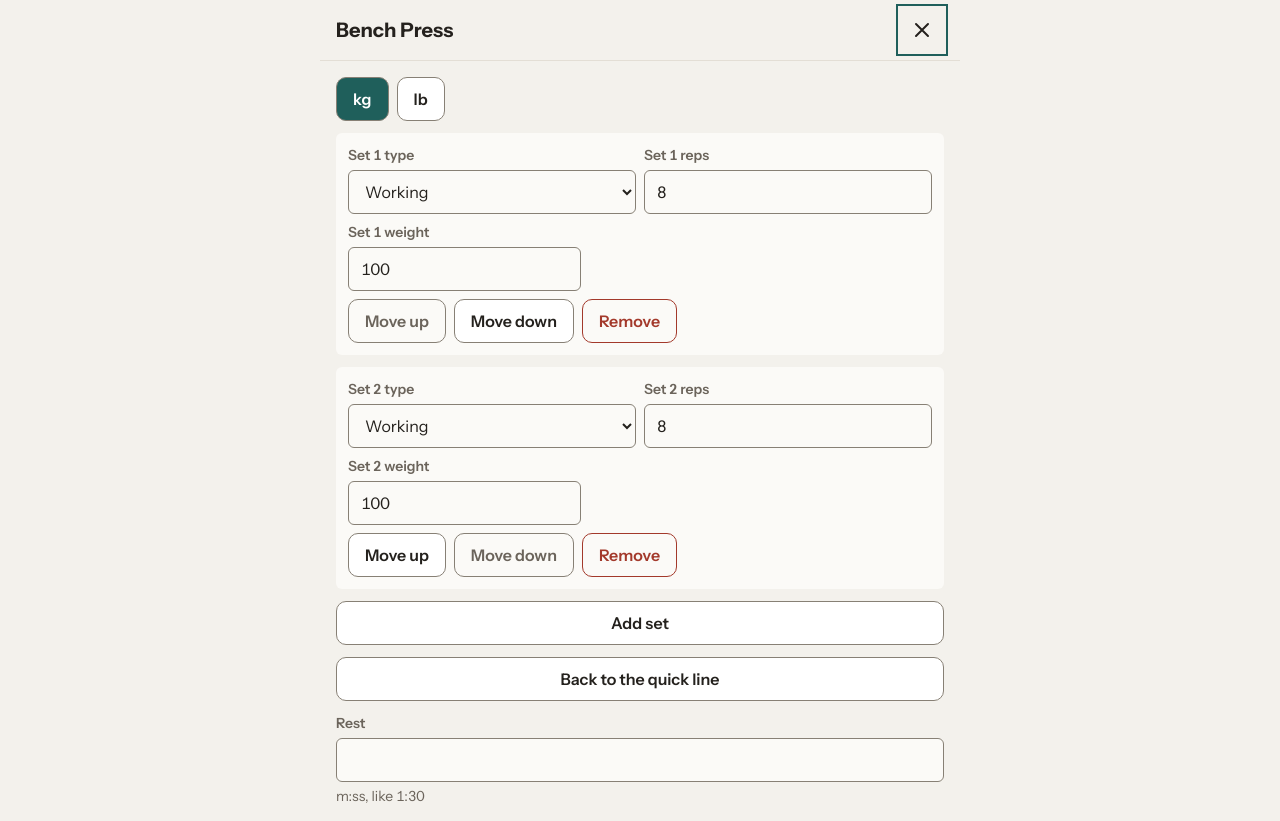
10.2 AC14 — Back to the quick line only when lossless › editing a row so the rows differ withdraws the button; making them equal again offers it
Expected: the button "Back to the quick line" is shown, [336, 657, 944, 701]
In the field labelled "Set 2 weight": (464, 503) [348, 481, 581, 525], type "5"
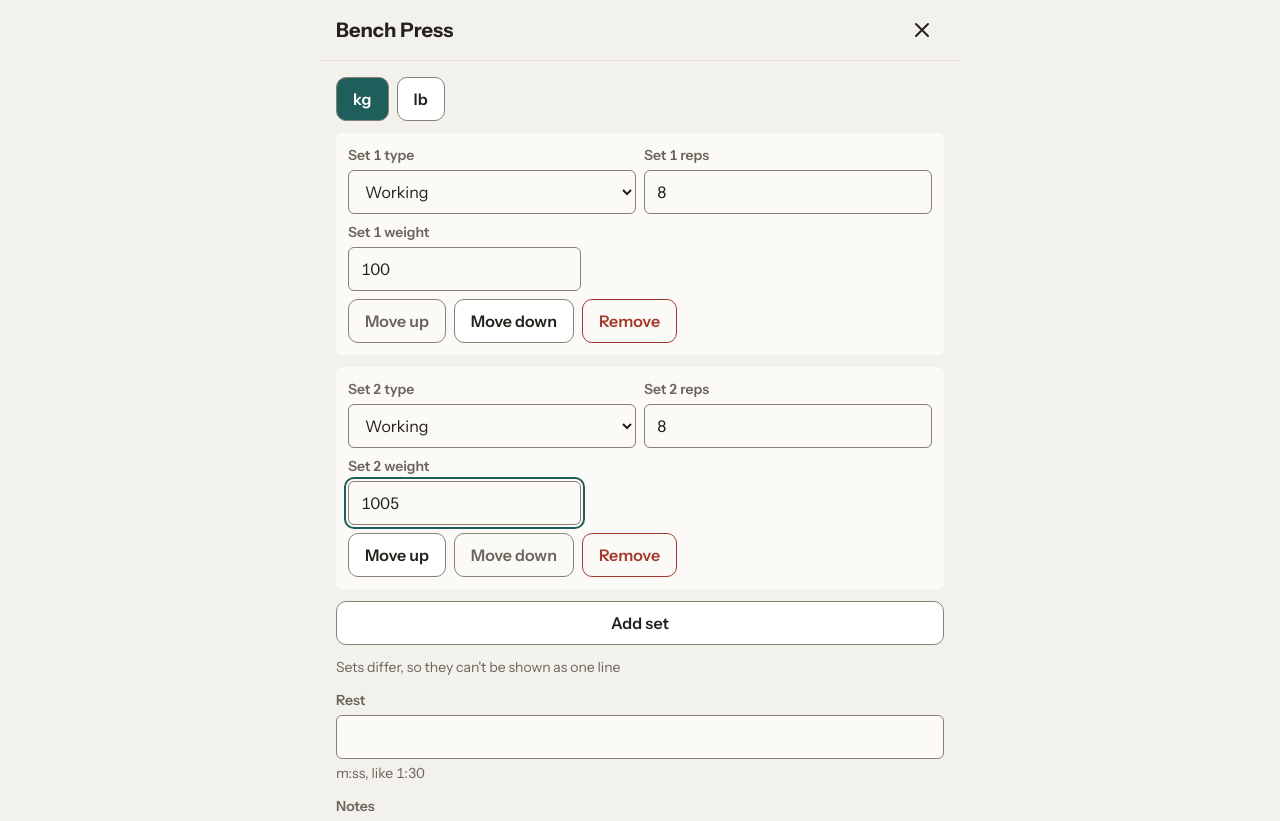
Now the button "Back to the quick line" is gone
Replace the text in the field labelled "Set 2 weight" with "100": (464, 503) [348, 481, 581, 525]
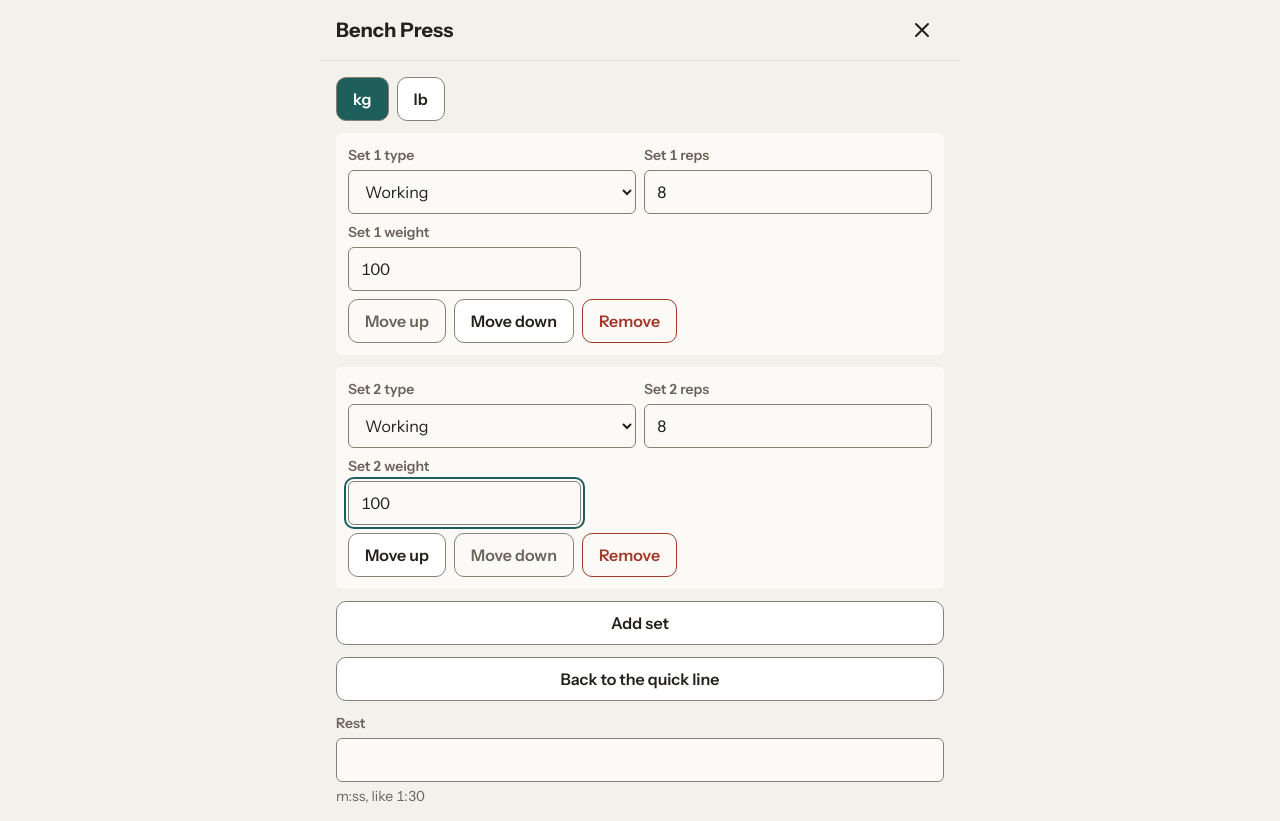
Now the button "Back to the quick line" is shown, box [336, 657, 944, 701]
